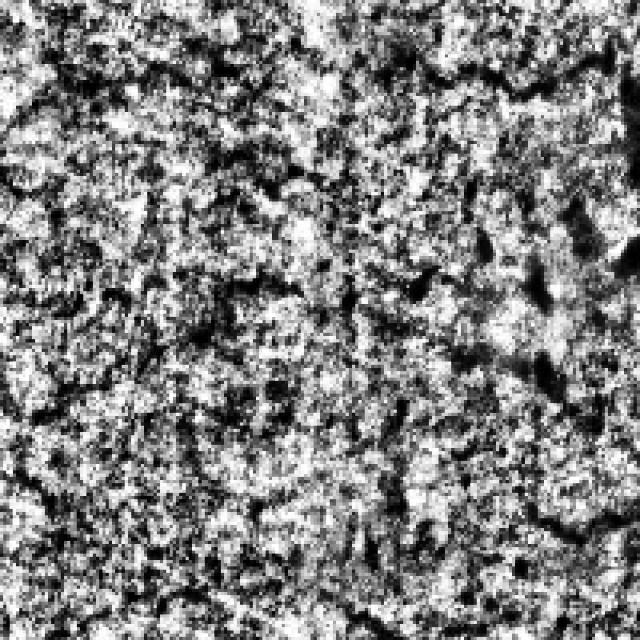Pitted_Surface: (9, 253, 300, 612), (131, 19, 637, 205), (438, 150, 612, 550)
